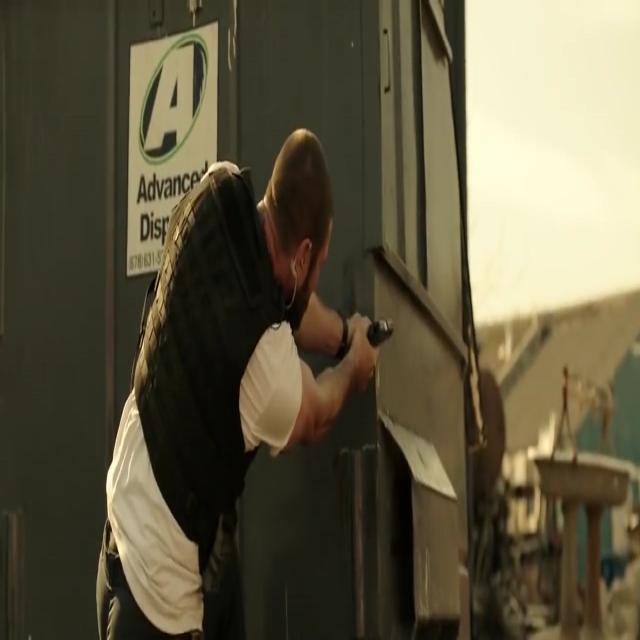Weapon: (347, 290, 412, 390)
